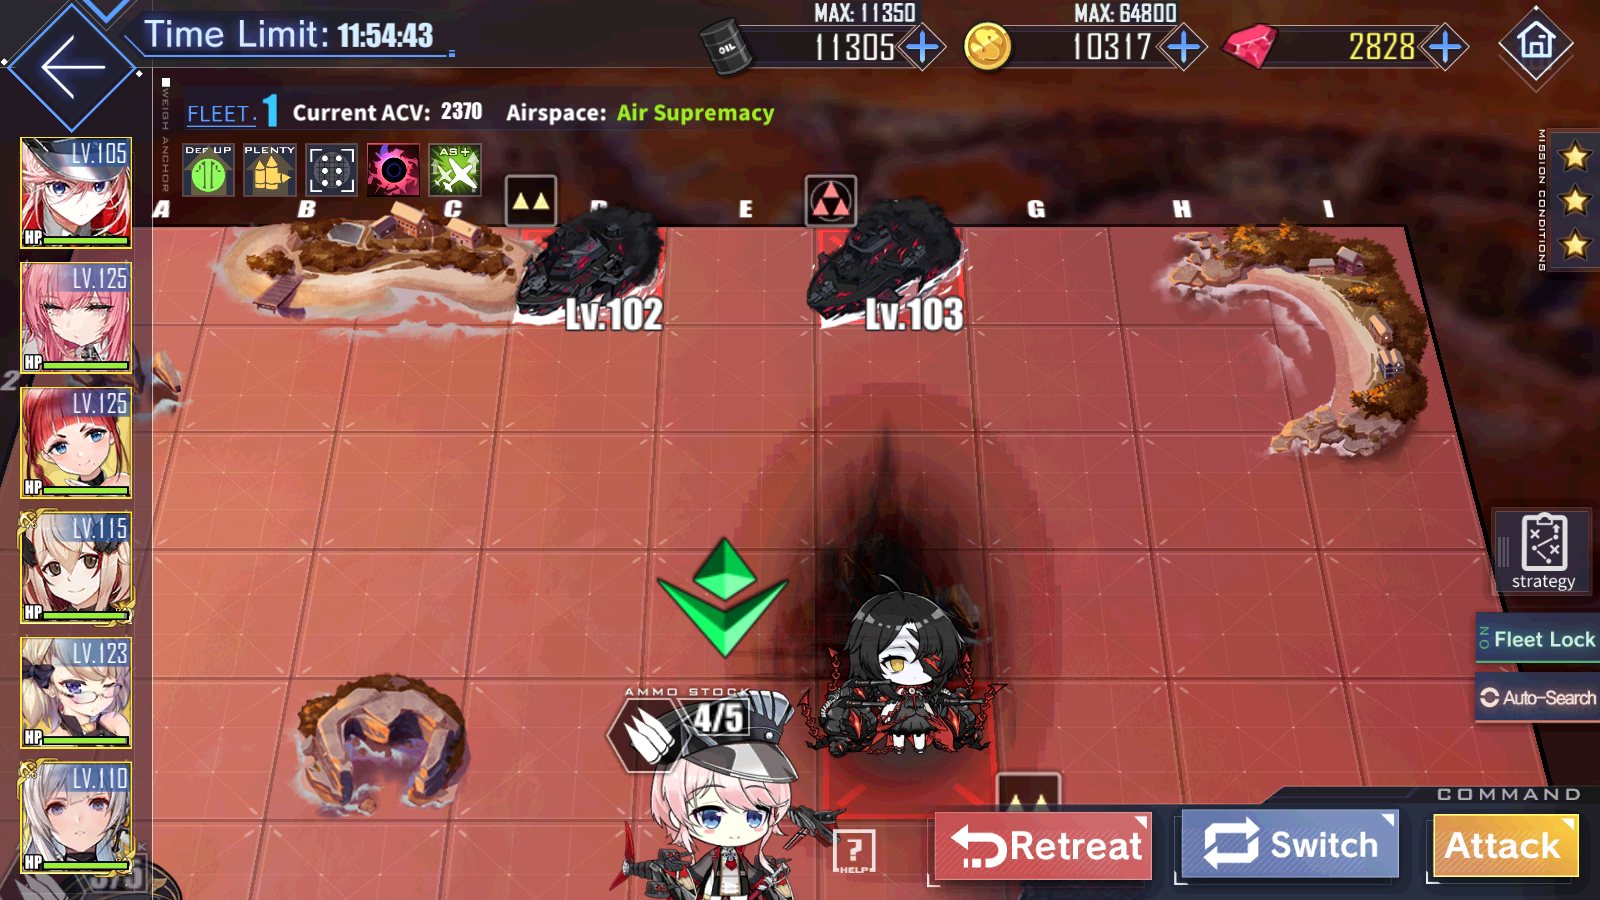ally: (605, 538, 819, 900)
elite: (827, 574, 997, 813)
enemy: (503, 171, 665, 330), (804, 173, 966, 331)
